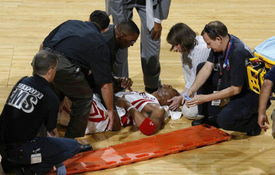fall: (32, 75, 186, 137)
